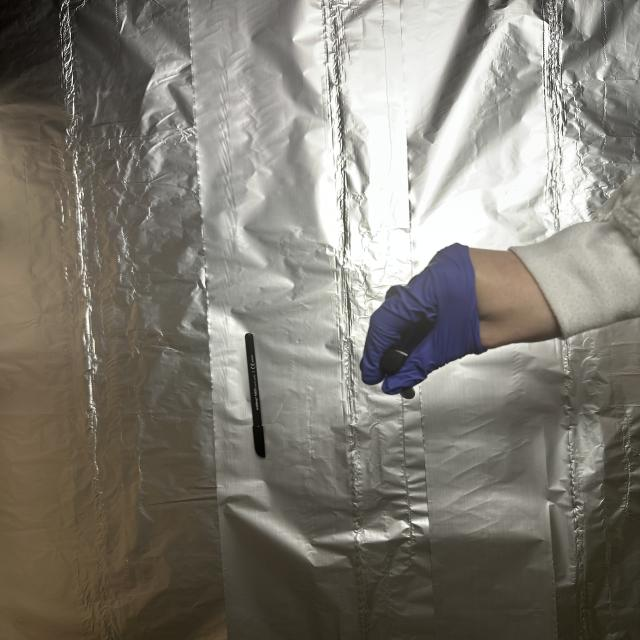glove_partial: (363, 242, 564, 396)
